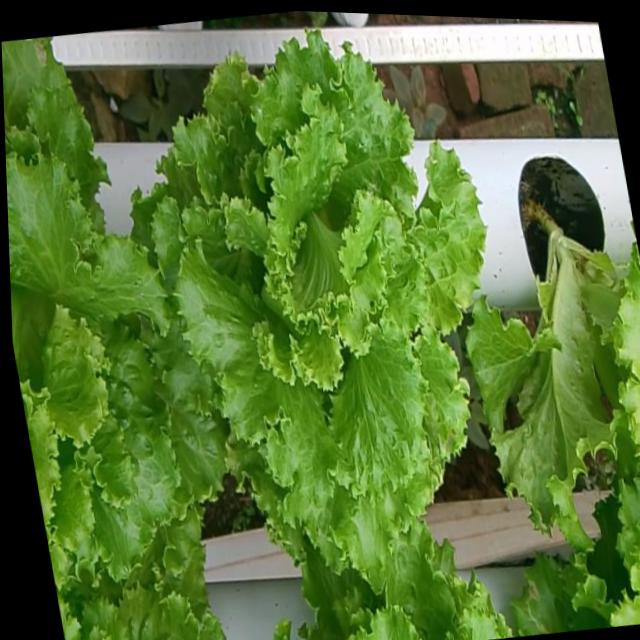Mature: (157, 29, 495, 571), (5, 139, 232, 576)
